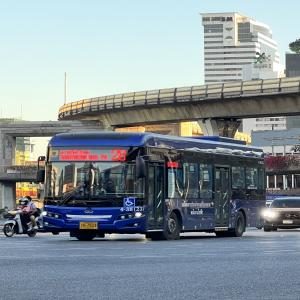Bus Line Number: (108, 148, 128, 161)
Bus Side Number: (119, 206, 145, 211)
Destination Sign: (58, 149, 109, 163)
TSB-Bus: (40, 131, 267, 241)
